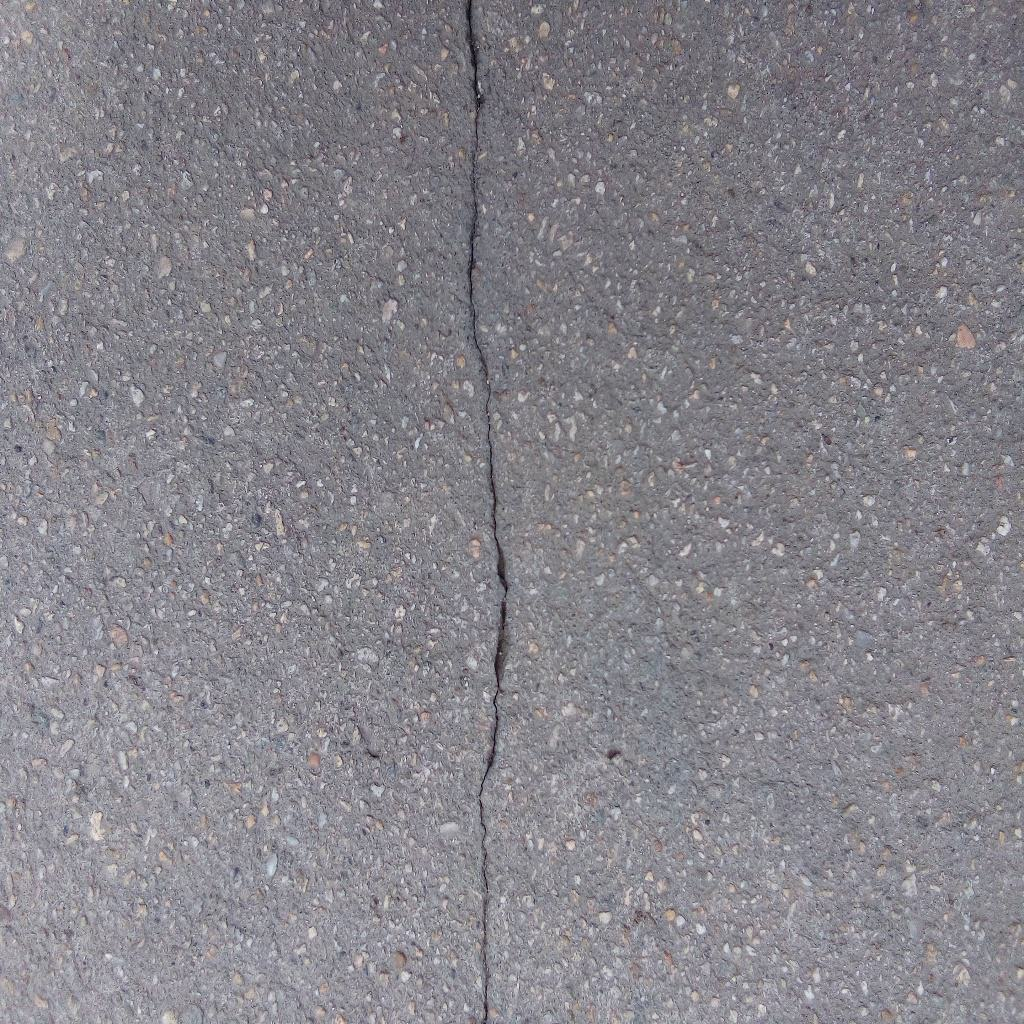Crack: (464, 1, 512, 1024)
